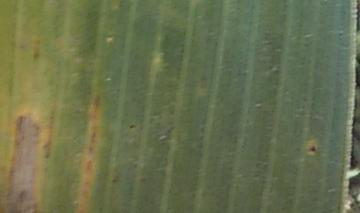tarspot: (308, 144, 317, 154), (110, 174, 120, 183), (128, 123, 136, 131)
